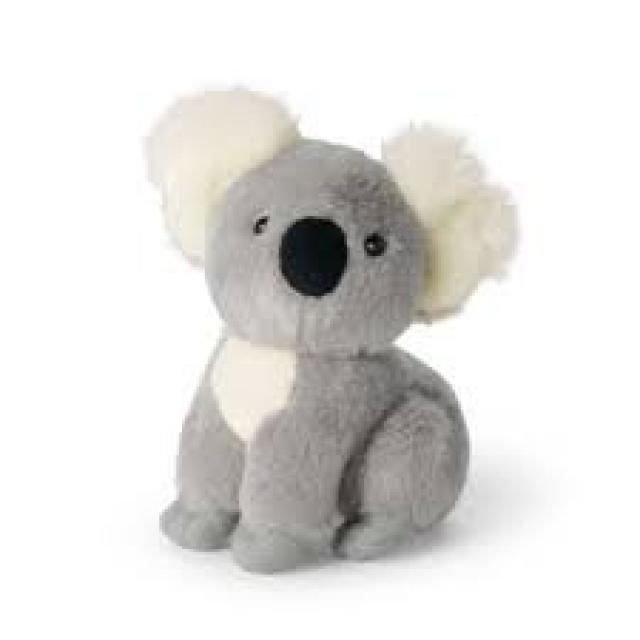Koala: (137, 80, 522, 575)
